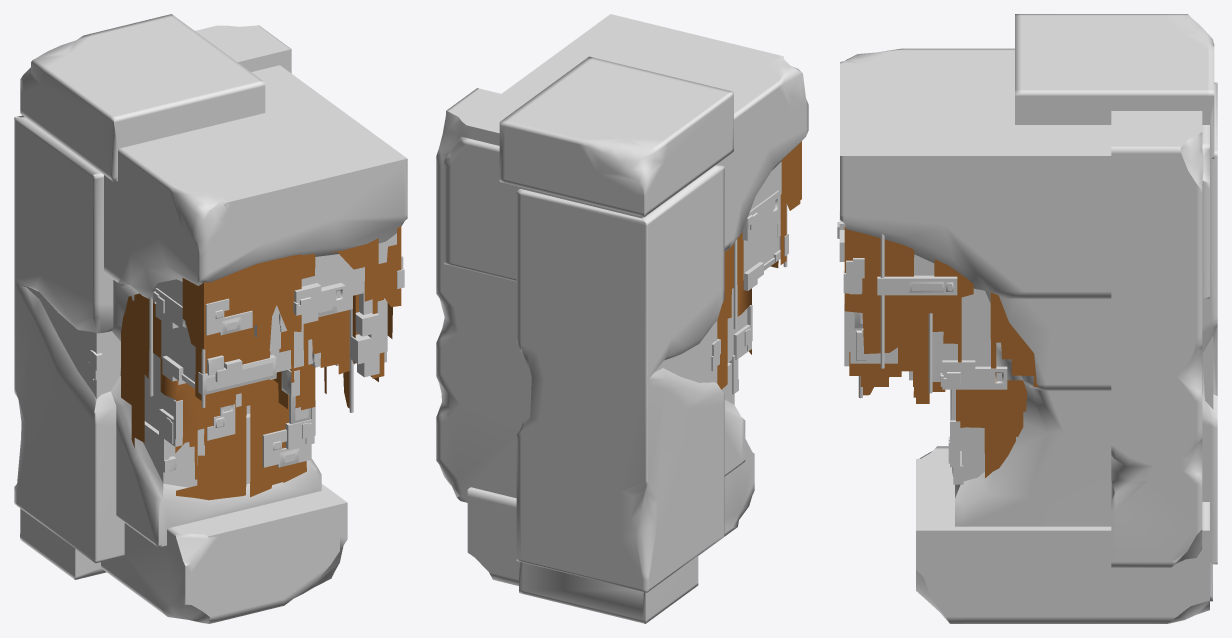
File: VexArchitecture_16.fbx
The picture shows the model from 3 angles, left to right: view 1: azimuth 30°, elevation 25°; view 2: azimuth 150°, elevation 25°; view 3: azimuth 270°, elevation 25°; orthographic projection. The views are drawn at different scales.
Parts seen in each view (by area): view 1: Mesh_0519.rip, Mesh_0512.rip, Mesh_0490.rip, Mesh_0489.rip; view 2: Mesh_0519.rip, Mesh_0512.rip, Mesh_0490.rip; view 3: Mesh_0519.rip, Mesh_0512.rip, Mesh_0490.rip, Mesh_0489.rip.
Part boxes in pixels (left/top/right/bottom): Mesh_0519.rip: left=14, top=14, right=407, bottom=623; Mesh_0512.rip: left=27, top=233, right=404, bottom=487; Mesh_0490.rip: left=121, top=226, right=401, bottom=500; Mesh_0489.rip: left=195, top=294, right=384, bottom=410; Mesh_0519.rip: left=436, top=14, right=808, bottom=623; Mesh_0512.rip: left=523, top=161, right=788, bottom=423; Mesh_0490.rip: left=717, top=141, right=801, bottom=389; Mesh_0519.rip: left=840, top=14, right=1217, bottom=623; Mesh_0512.rip: left=837, top=211, right=1213, bottom=484; Mesh_0490.rip: left=844, top=226, right=1027, bottom=477; Mesh_0489.rip: left=849, top=292, right=1038, bottom=403.
Size of the model in its own units: 96.91 by 199 by 132.
